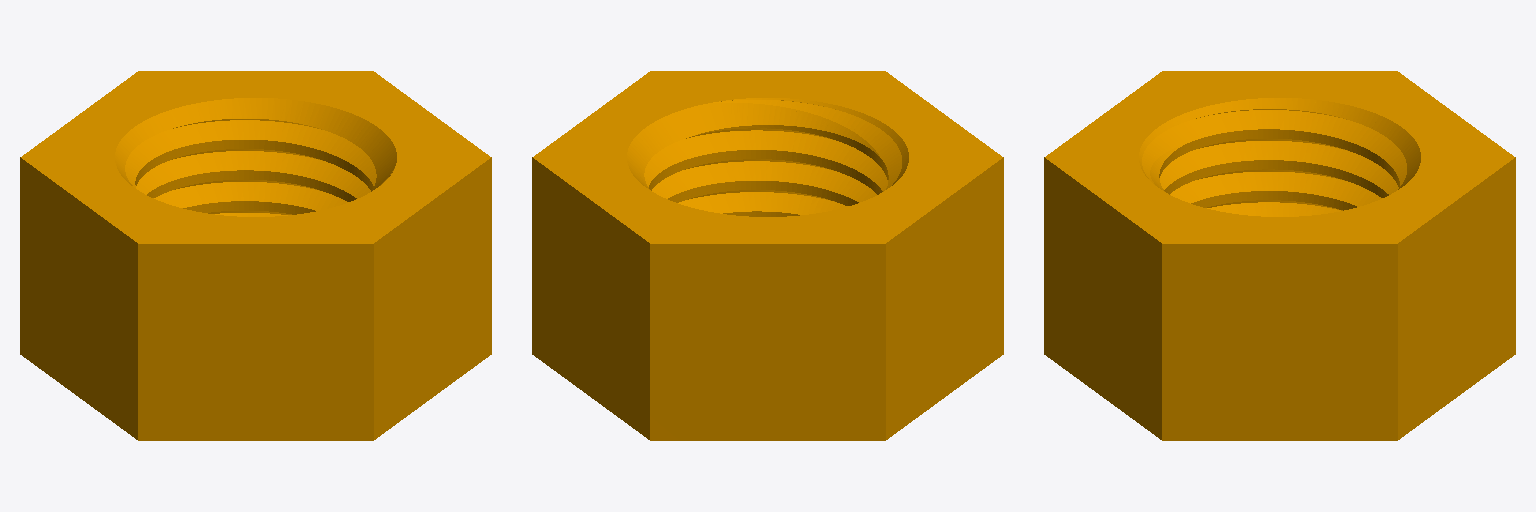
robot.urdf — factory_nut_m20_loose:
<?xml version="1.0"?>
<robot name="factory_nut_m20_loose">
    <link name="factory_nut_m20_loose">
        <visual>
            <geometry>
                <mesh filename="../mesh/factory_nut_bolt/factory_nut_m20_loose_subdiv_3x.obj"/>
            </geometry>
        </visual>
        <collision>
            <geometry>
                <mesh filename="../mesh/factory_nut_bolt/factory_nut_m20_loose_subdiv_3x.obj"/>
            </geometry>
            <sdf resolution="256"/>
        </collision>
    </link>
</robot>

--- Facts derived from the render (not from the file) ---
Views: 3 orthographic renders of the robot side by side, from view 1: azimuth 30°, elevation 25°; view 2: azimuth 150°, elevation 25°; view 3: azimuth 270°, elevation 25°.
Model factory_nut_m20_loose with 1 links and 0 joints (none), rooted at factory_nut_m20_loose, posed every joint at zero.
Visible links, largest first — view 1: factory_nut_m20_loose; view 2: factory_nut_m20_loose; view 3: factory_nut_m20_loose.
Boxes of the visible links, bbox=[...] form: factory_nut_m20_loose: bbox=[20, 71, 491, 440]; factory_nut_m20_loose: bbox=[532, 71, 1003, 440]; factory_nut_m20_loose: bbox=[1044, 71, 1515, 440].
Size in the robot's own frame: 0.03 by 0.0346 by 0.016 metres.
Meshes: 1 distinct files referenced, 1 mesh visuals loaded (1 OBJ).